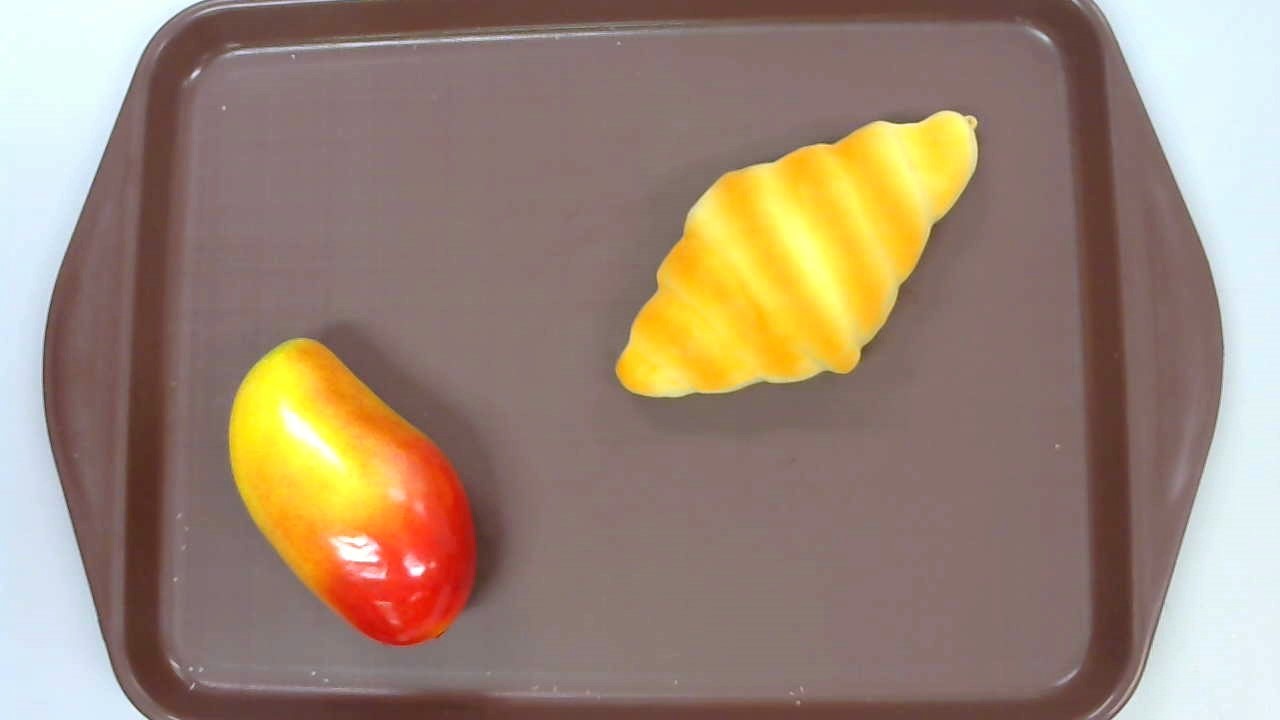croissant: (615, 109, 978, 397)
red mango: (228, 336, 477, 647)
